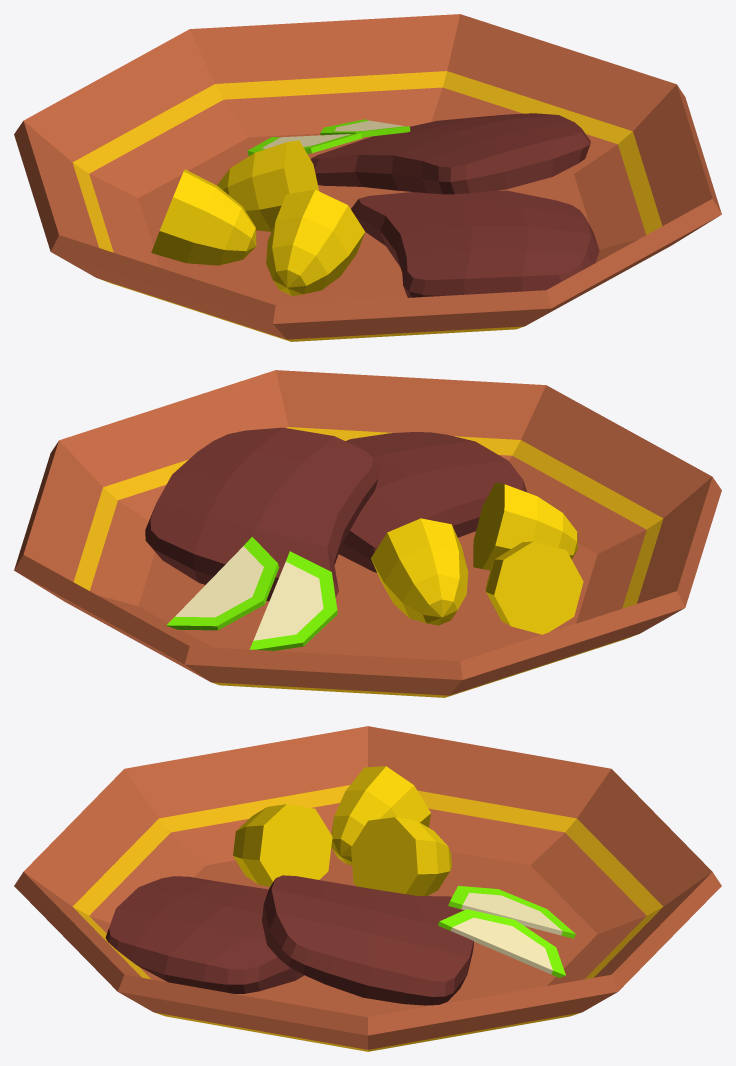
File: Plato_Carne_Llama.fbx
3 views of the same model, one above another, from view 1: azimuth 30°, elevation 25°; view 2: azimuth 150°, elevation 25°; view 3: azimuth 270°, elevation 25° (orthographic). The views are drawn at different scales.
Visible parts, largest first — view 1: Plato_Carne_Llama; view 2: Plato_Carne_Llama; view 3: Plato_Carne_Llama.
Part boxes in pixels (box(x1,y1,x2,y2)): Plato_Carne_Llama: box(14, 14, 721, 341); Plato_Carne_Llama: box(14, 370, 721, 697); Plato_Carne_Llama: box(14, 726, 721, 1051).
Size of the model in its own units: 38.53 by 6.08 by 38.53.
